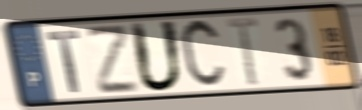3: (273, 16, 315, 83)
C: (178, 15, 229, 94)
T: (224, 15, 261, 89), (44, 28, 82, 95)
U: (128, 19, 186, 95)
Z: (84, 22, 142, 97)
